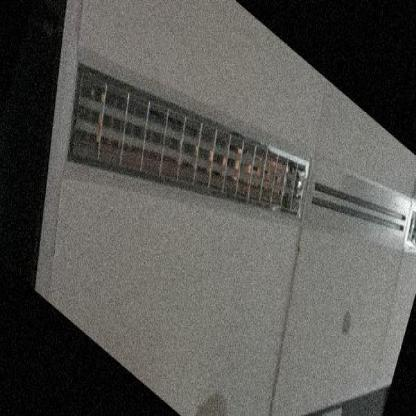light_off: (42, 0, 327, 350)
